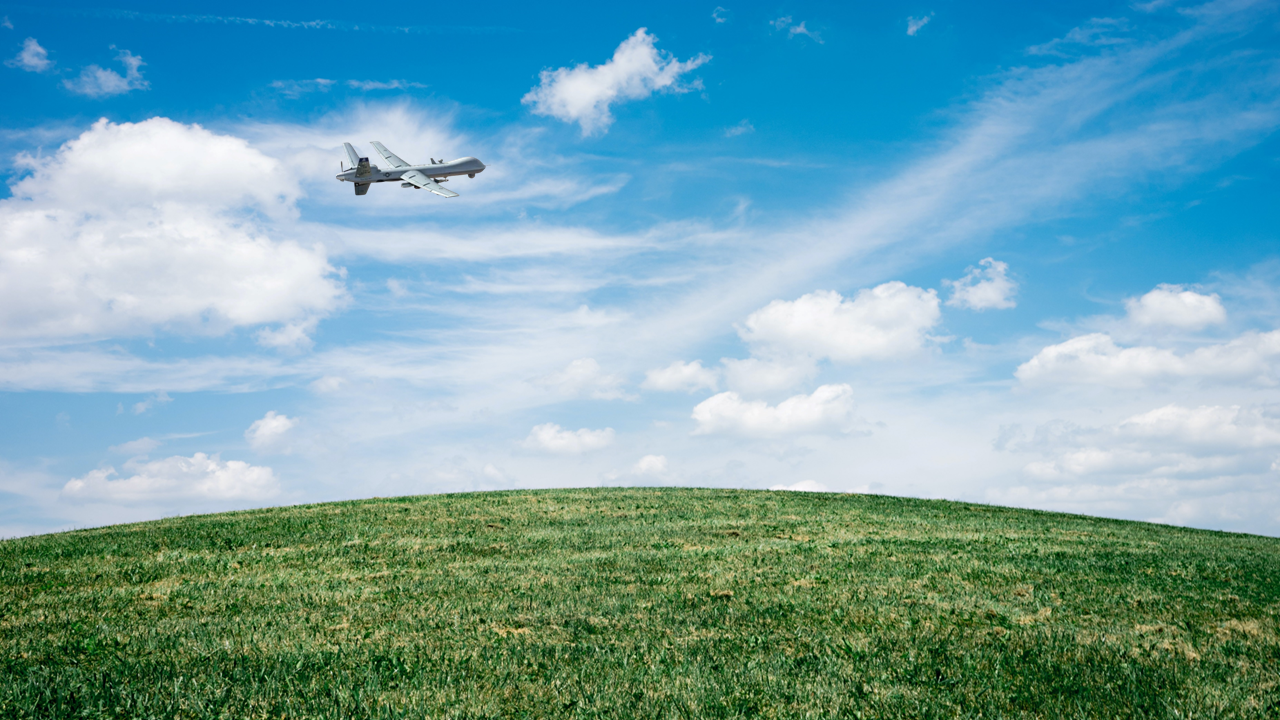military drone: (335, 140, 486, 197)
